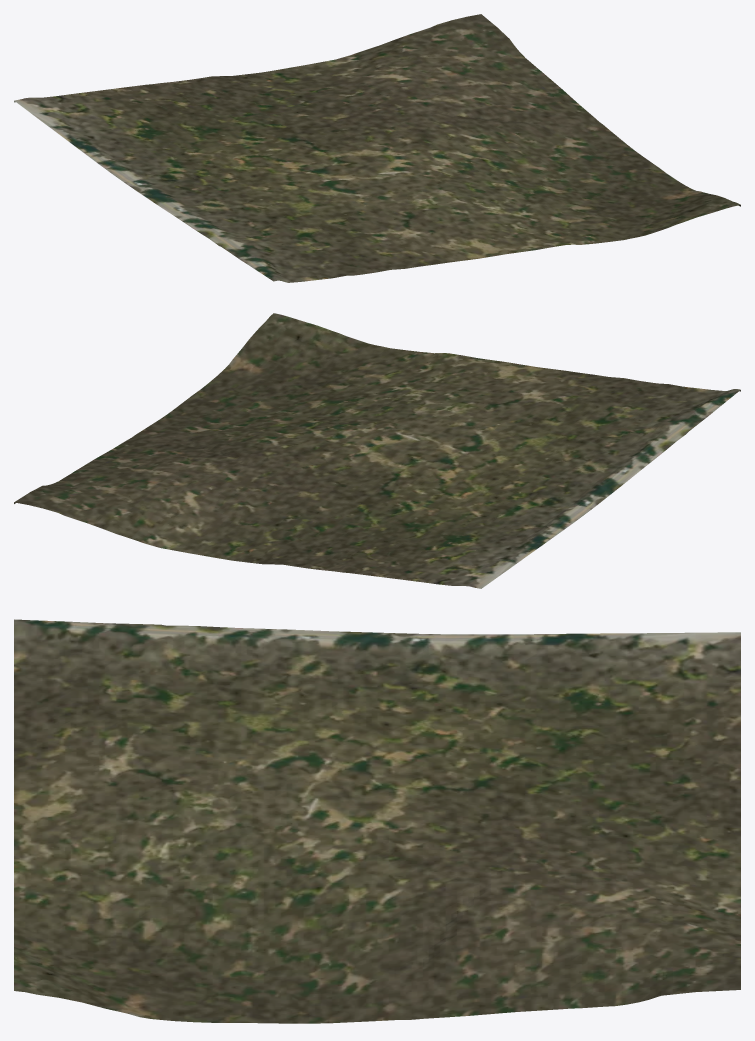
3 renders of one model, top to bottom at view 1: azimuth 30°, elevation 25°; view 2: azimuth 150°, elevation 25°; view 3: azimuth 270°, elevation 25°, orthographic. The views are drawn at different scales.
Size of the model in its own units: 250 by 32.08 by 241.
1 material, 1 textured.
